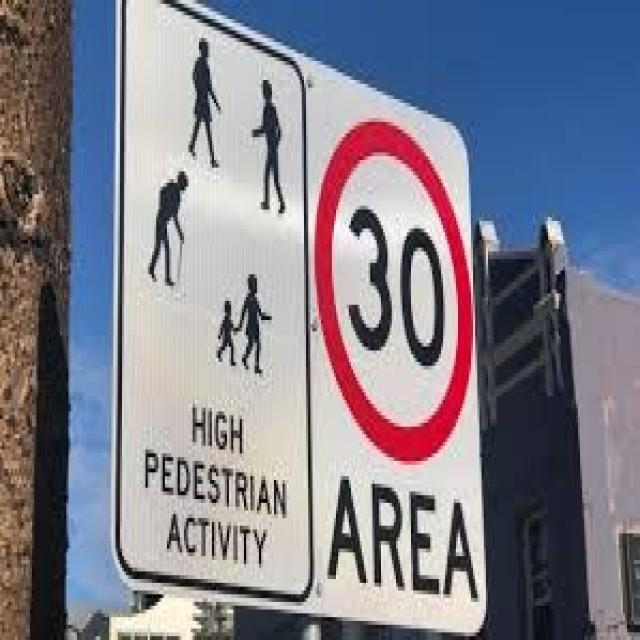speed_limit_30: (312, 105, 477, 467)
